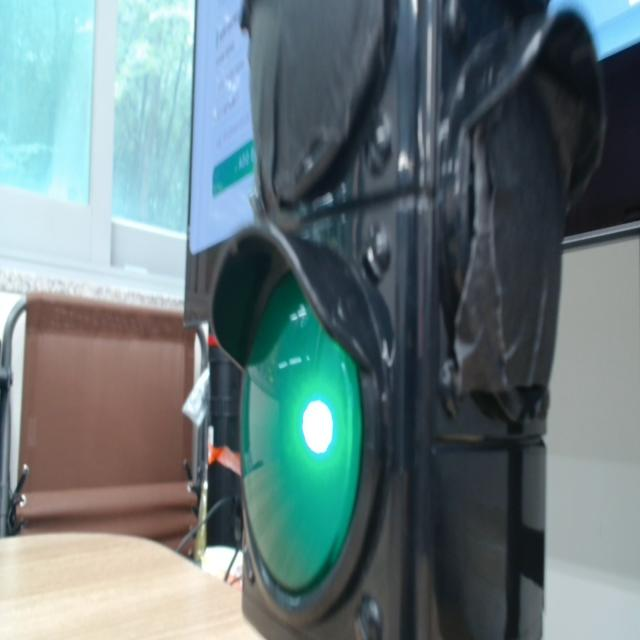green_light: (242, 275, 362, 592), (302, 400, 332, 453)
